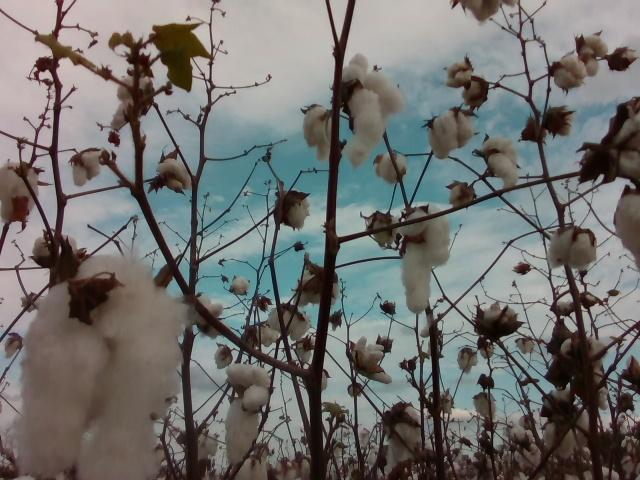cotton_ready: (14, 252, 187, 480), (343, 53, 403, 168), (401, 207, 451, 315), (224, 364, 270, 464), (543, 388, 591, 460), (562, 336, 609, 409), (0, 161, 40, 223), (428, 107, 476, 158), (387, 402, 423, 470), (608, 109, 640, 180), (111, 75, 151, 131), (547, 227, 597, 270), (354, 336, 393, 385), (189, 293, 230, 339), (302, 104, 334, 162), (296, 267, 339, 309), (617, 193, 640, 270), (485, 136, 519, 188), (268, 304, 309, 341), (70, 147, 104, 188), (461, 0, 518, 24), (553, 54, 587, 90), (281, 188, 308, 232), (156, 158, 192, 191), (580, 35, 607, 77), (367, 214, 400, 248), (34, 233, 77, 259), (478, 301, 516, 328), (376, 151, 407, 184), (445, 60, 472, 89), (235, 457, 268, 480), (551, 105, 574, 136), (449, 183, 475, 208), (464, 79, 487, 107), (614, 48, 638, 68)
